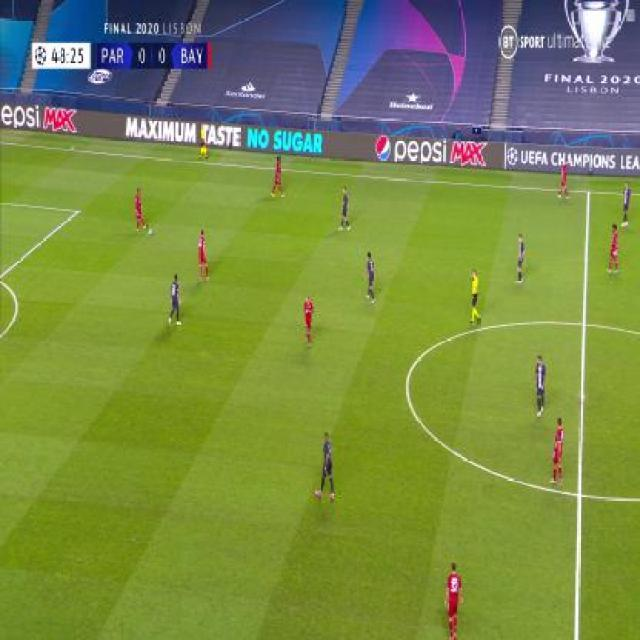ball: (148, 228, 153, 236)
player: (443, 558, 465, 640), (315, 430, 337, 503), (549, 415, 566, 488), (533, 353, 547, 419), (132, 187, 151, 235), (468, 265, 482, 327), (361, 249, 377, 303), (605, 221, 621, 274), (169, 272, 183, 329), (196, 228, 210, 285), (302, 292, 316, 348), (514, 231, 527, 285), (619, 180, 633, 229), (338, 184, 352, 232), (270, 157, 286, 199), (557, 156, 571, 202), (197, 124, 210, 161)
